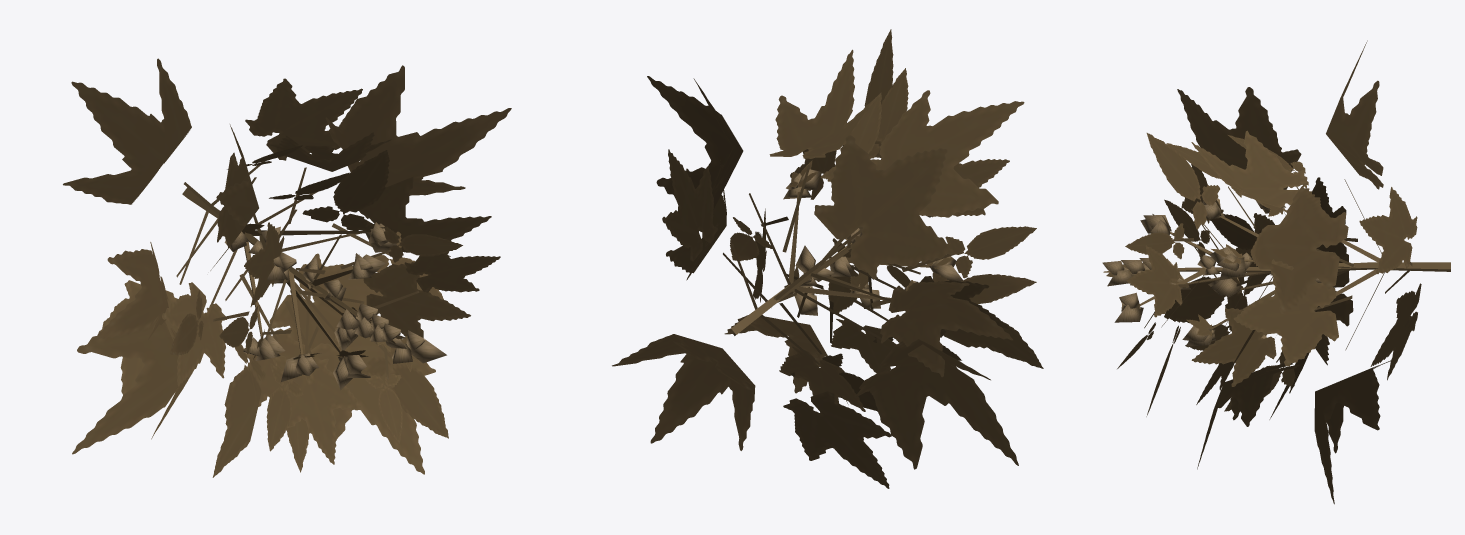
File: p_male_afghan_ripe_c3_cards.obj
3 views of the same model, side by side, from view 1: azimuth 30°, elevation 25°; view 2: azimuth 150°, elevation 25°; view 3: azimuth 270°, elevation 25° (orthographic). The views are drawn at different scales.
Bounding box in the file's own units: 1.45 × 1.41 × 1.07.
1 material, 1 textured.
